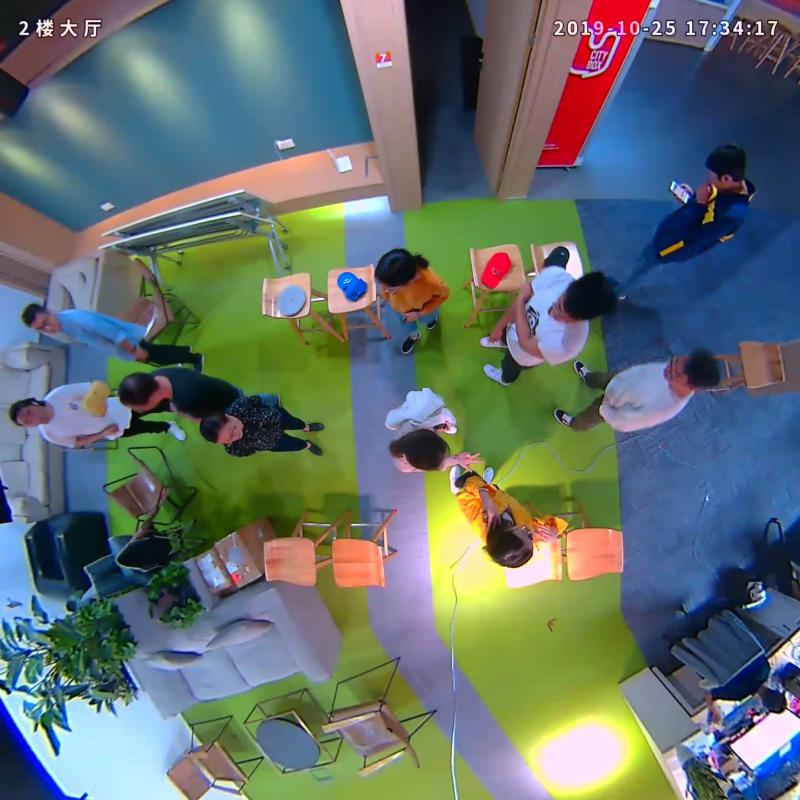head: (552, 271, 613, 321), (663, 350, 719, 389), (403, 428, 450, 472), (703, 143, 747, 190), (374, 248, 418, 291), (493, 525, 535, 569), (118, 370, 160, 413), (199, 410, 244, 446), (21, 302, 60, 334), (8, 397, 49, 426)
